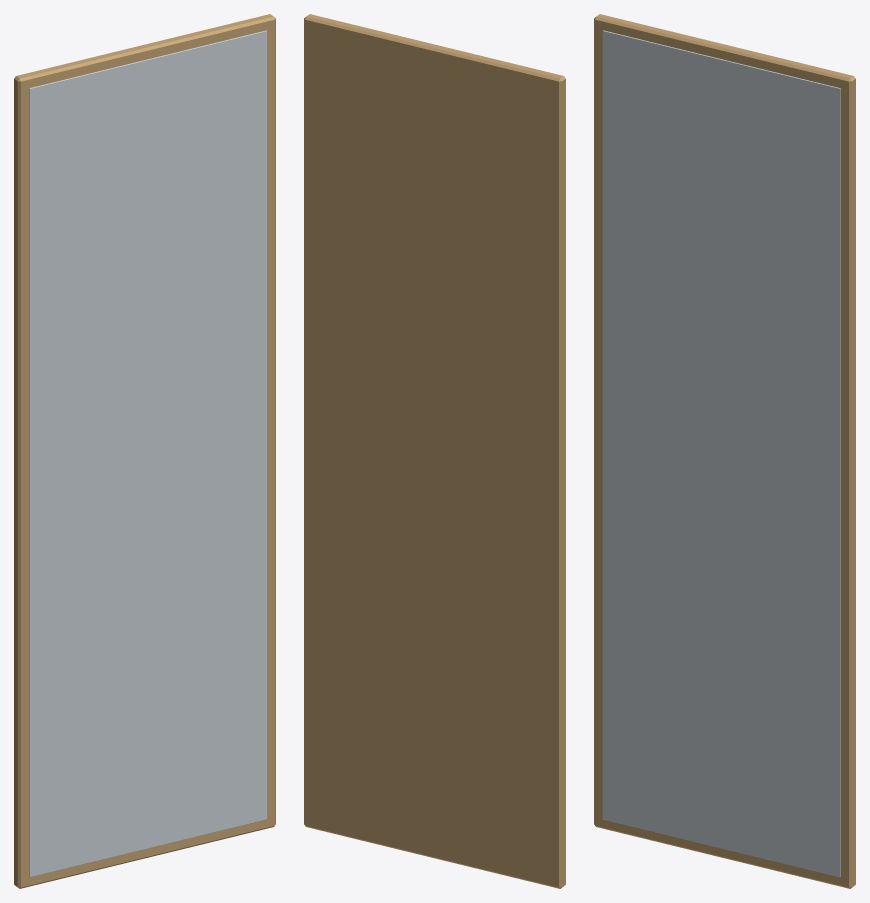
Rendered from i_mirror_2.glb.
3 renders of one model, left to right at view 1: azimuth 30°, elevation 25°; view 2: azimuth 150°, elevation 25°; view 3: azimuth 330°, elevation 25°, orthographic.
Parts seen in each view (by area): view 1: o.001, o; view 2: o; view 3: o.001, o.
Part boxes in pixels (box(x1,y1,x2,y2)): o.001: box(29, 30, 267, 877); o: box(14, 14, 275, 888); o: box(304, 14, 565, 888); o.001: box(602, 30, 840, 877); o: box(594, 14, 855, 888).
Bounding box in the file's own units: 0.5 × 1.5 × 0.022.
